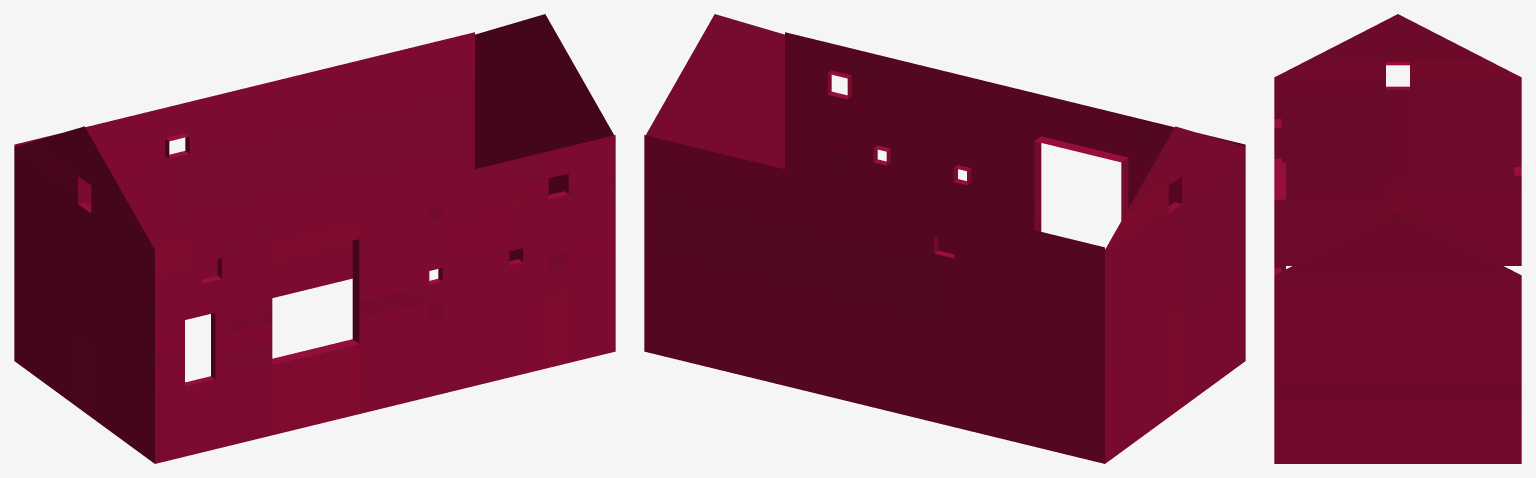
The model's file is SM_Bld_011_Masonry.glb.
3 views of the same model, side by side, from view 1: azimuth 30°, elevation 25°; view 2: azimuth 150°, elevation 25°; view 3: azimuth 270°, elevation 25° (orthographic). The views are drawn at different scales.
Visible parts, largest first — view 1: SM_Bld_011_Masonry; view 2: SM_Bld_011_Masonry; view 3: SM_Bld_011_Masonry.
Part boxes in pixels (<box>): SM_Bld_011_Masonry: <box>14,14,615,463</box>; SM_Bld_011_Masonry: <box>644,14,1245,463</box>; SM_Bld_011_Masonry: <box>1274,14,1521,463</box>.
Size of the model in its own units: 13.77 by 8.18 by 7.28.
